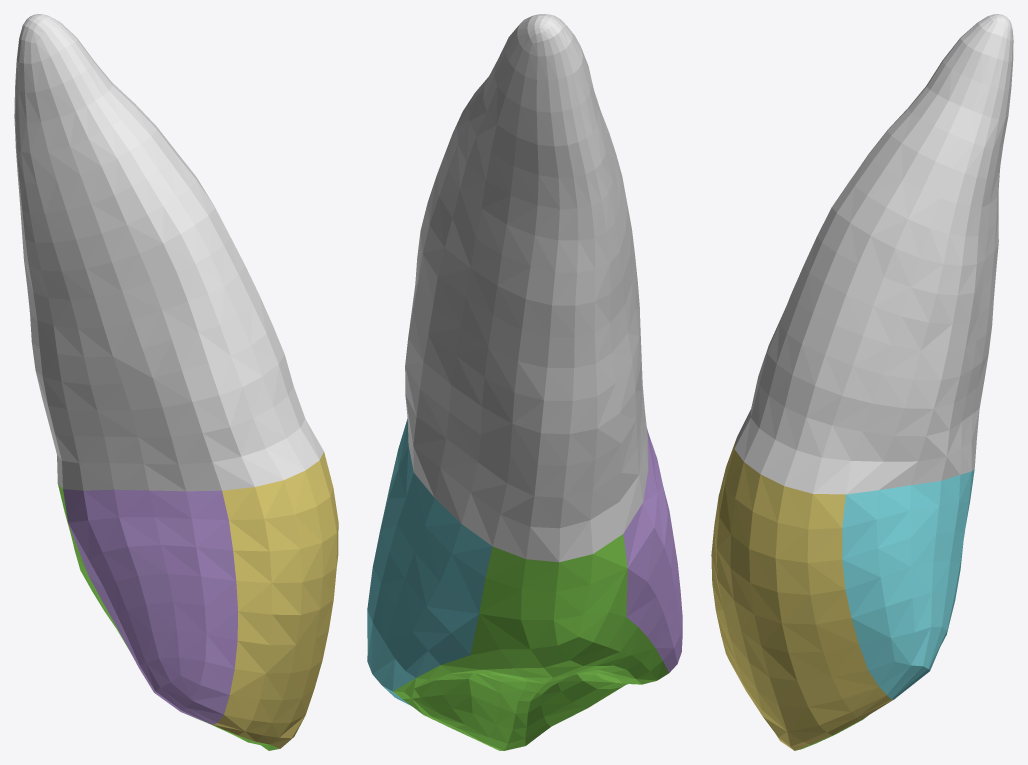
File: tooth_23_annotated.glb
The picture shows the model from 3 angles, left to right: view 1: azimuth 30°, elevation 25°; view 2: azimuth 150°, elevation 25°; view 3: azimuth 270°, elevation 25°; orthographic projection. The views are drawn at different scales.
Parts seen in each view (by area): view 1: FDI_23; view 2: FDI_23; view 3: FDI_23.
Boxes of the visible parts, box(x1,y1,x2,y2) form: FDI_23: box(14, 14, 338, 750); FDI_23: box(367, 14, 682, 750); FDI_23: box(711, 14, 1013, 750).
Size of the model in its own units: 0.00704 by 0.0204 by 0.00834.
